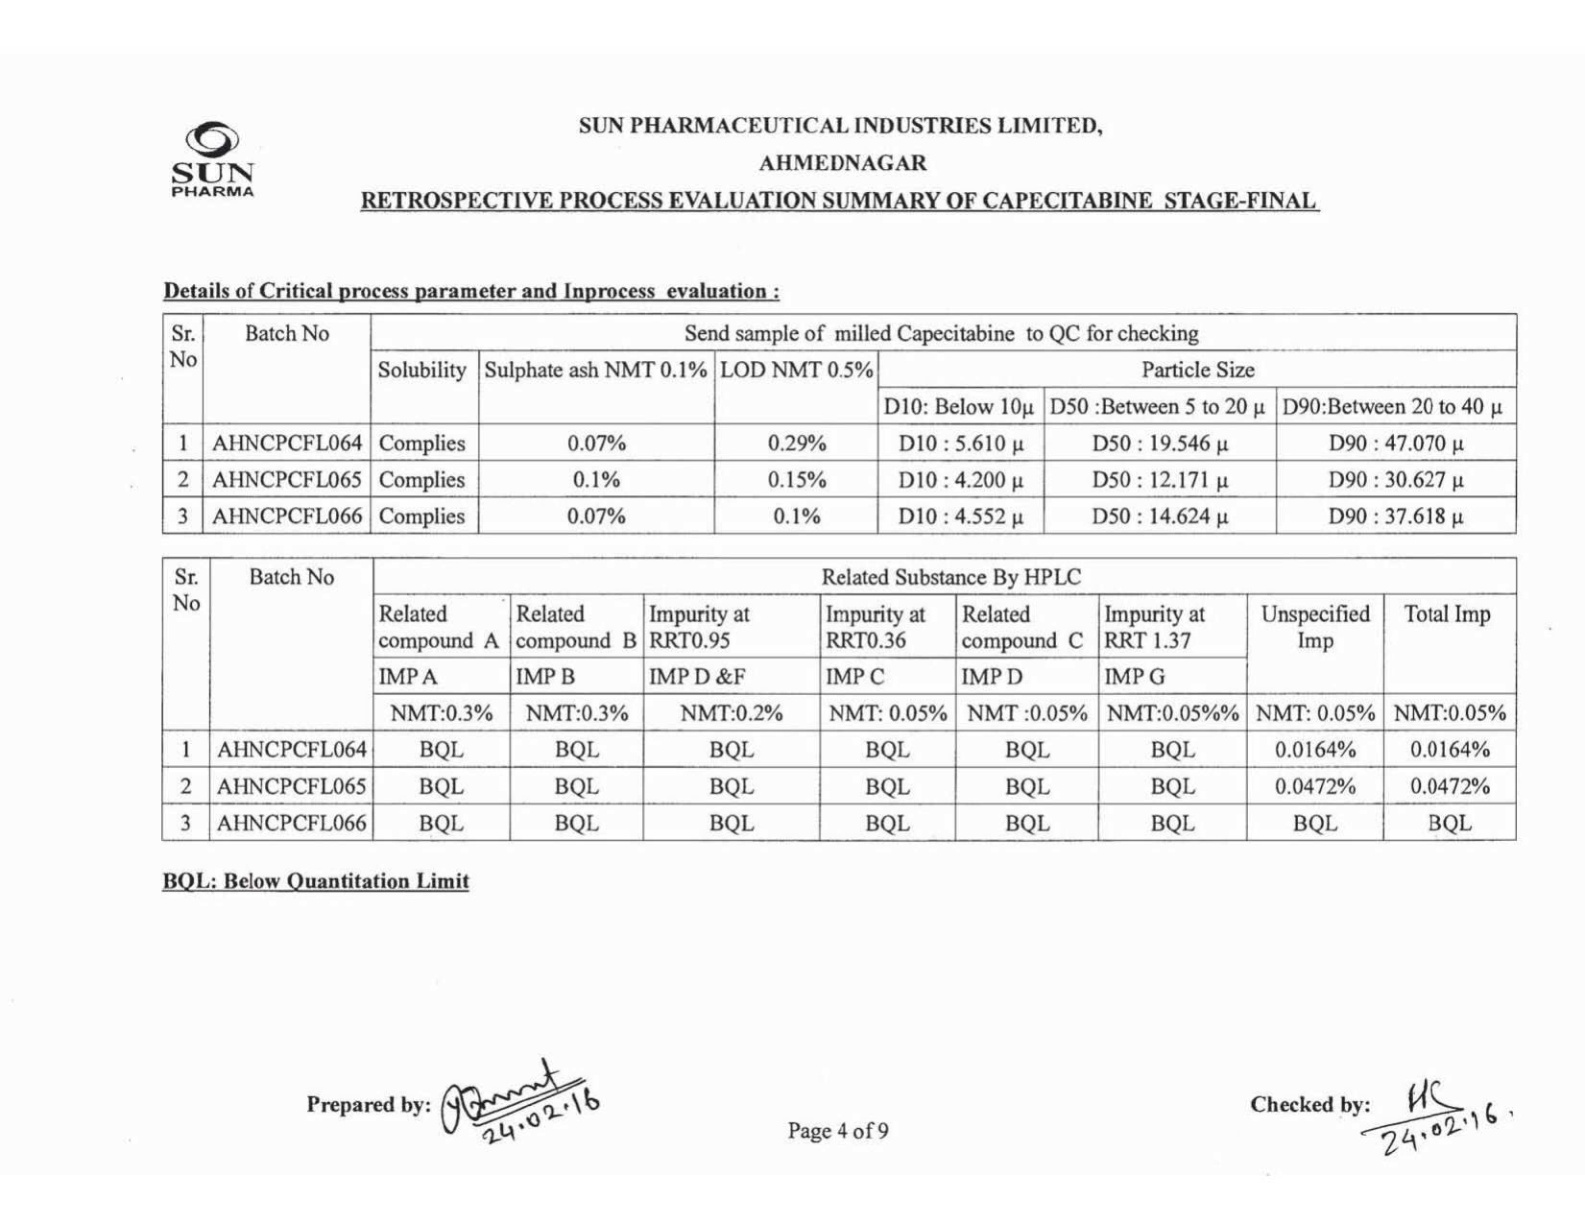merged_cells: (161, 555, 1518, 841), (159, 311, 1518, 535)
